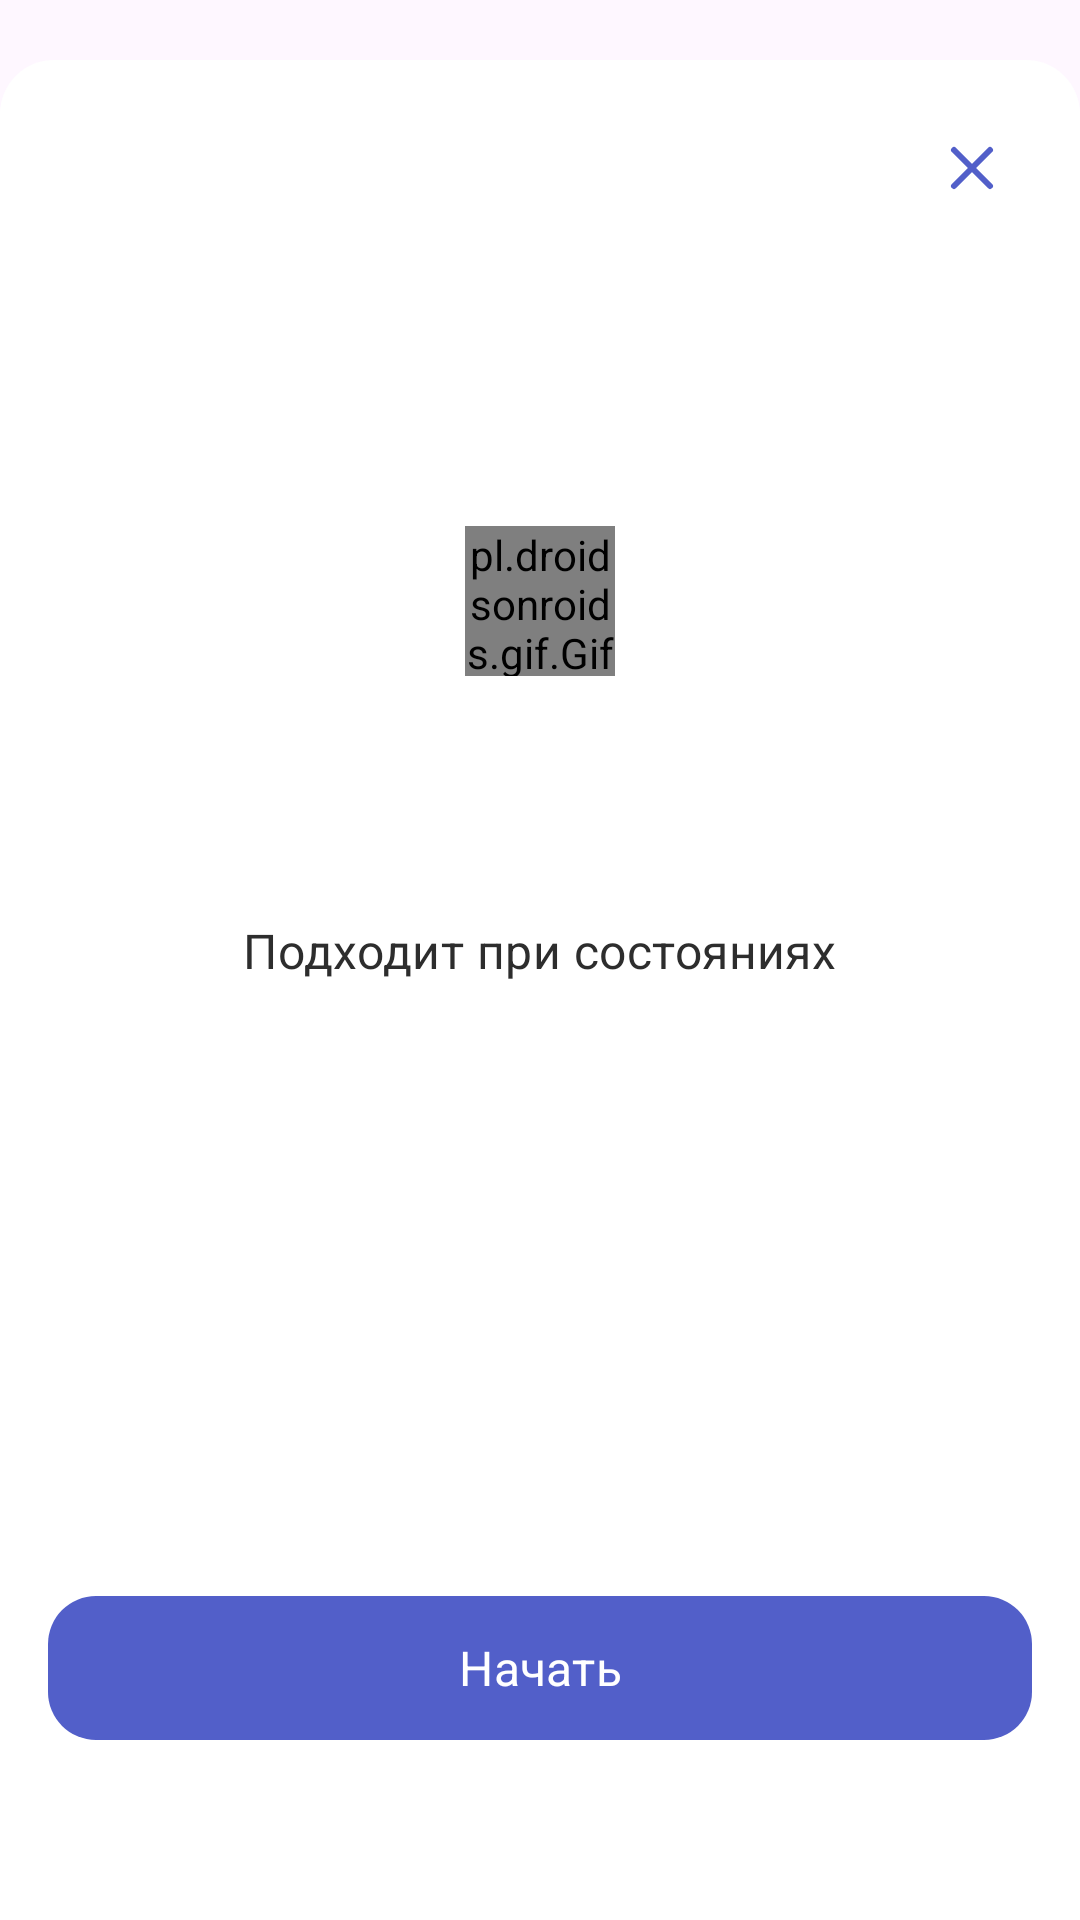

Icon click points for this 1080px×1920px phone screenshot, format (x,y):
close: (972,167)
